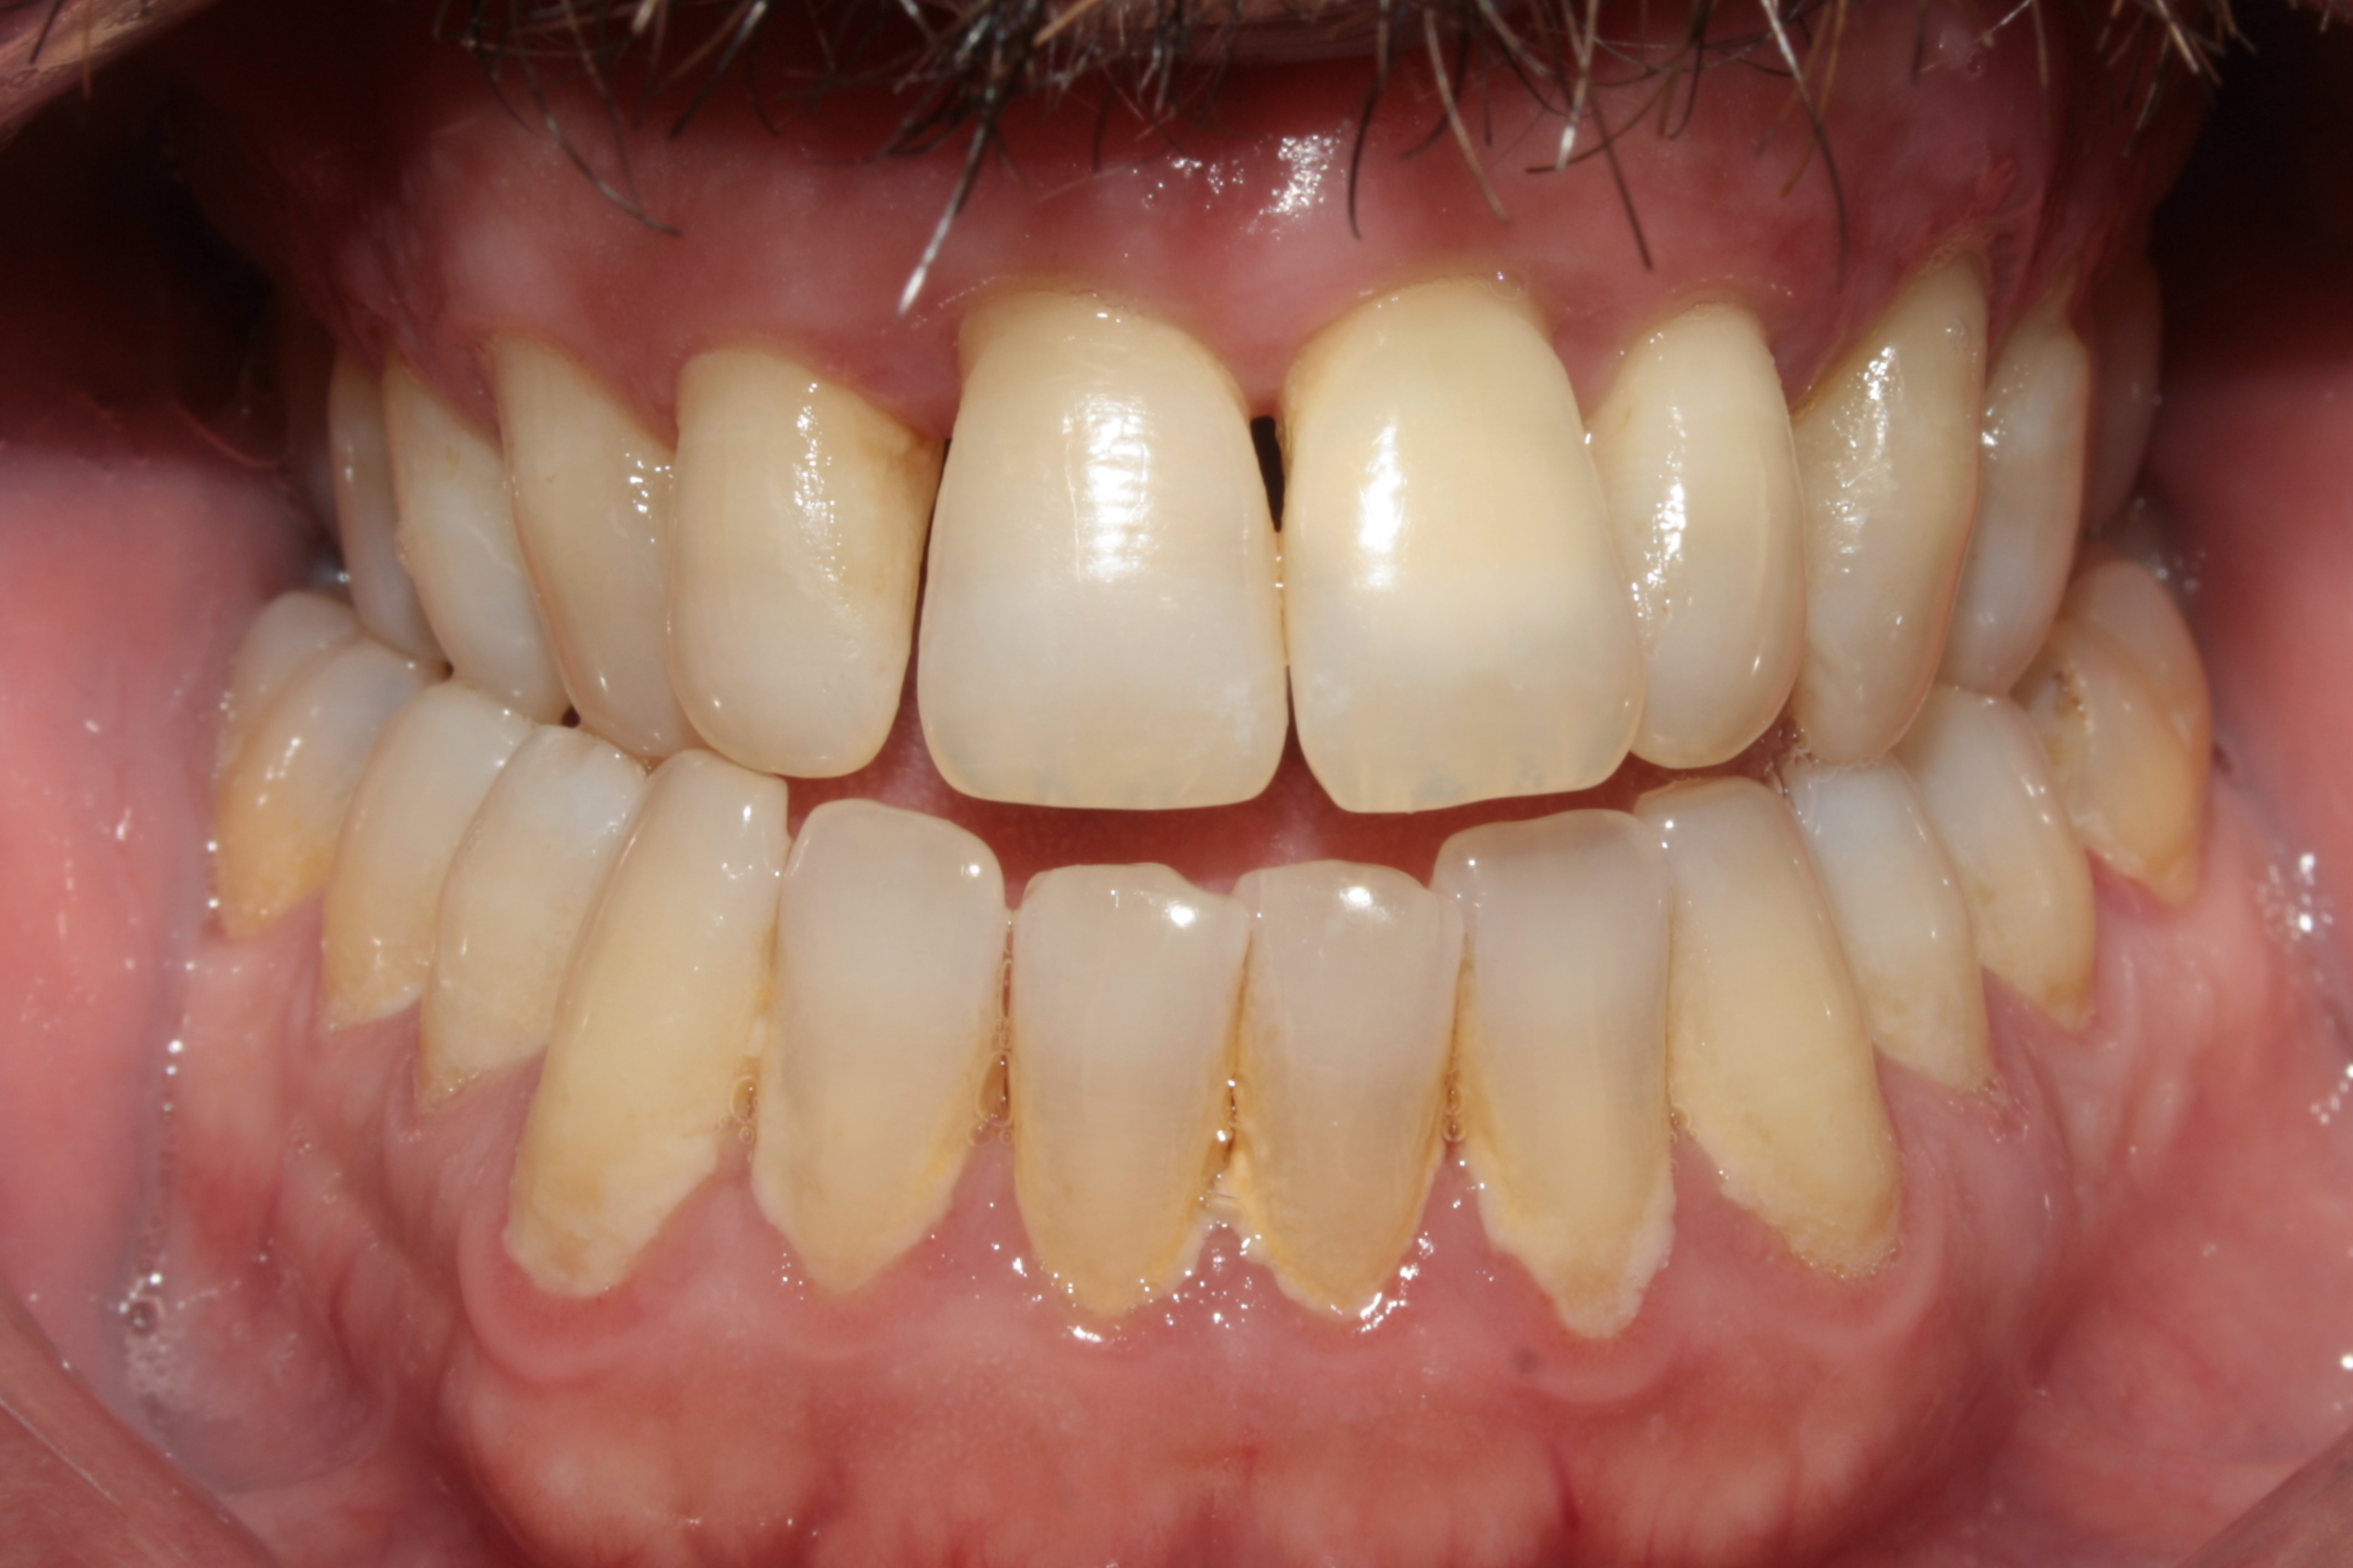LL1BC_mdecay: (1816, 782, 1994, 1095)
LL1M_mdecay: (2054, 661, 2203, 910)
LL2BC_mdecay: (1938, 730, 2101, 1027)
LL2M_mdecay: (2099, 574, 2220, 737)
LLCI_mdecay: (1244, 863, 1452, 1311)
LLC_mdecay: (1669, 789, 1900, 1281)
LLLI_mdecay: (1457, 828, 1672, 1326)
LR1BC_mdecay: (422, 735, 590, 1102)
LR1M_mdecay: (226, 654, 341, 926)
LR2BC_mdecay: (327, 689, 436, 1020)
LR2M_mdecay: (212, 597, 310, 730)
LRCI_mdecay: (1009, 865, 1237, 1300)
LRC_mdecay: (518, 786, 758, 1297)
LRLI_mdecay: (770, 803, 1002, 1281)
UL1BC_mdecay: (1979, 334, 2087, 702)
ULCI_healthy: (1293, 285, 1634, 805)
ULC_mdecay: (1804, 261, 1984, 761)
ULLI_mdecay: (1629, 294, 1798, 772)
UR1BC_mdecay: (378, 371, 504, 670)
UR2BC_mdecay: (332, 381, 399, 637)
URCI_healthy: (922, 299, 1282, 807)
URC_mdecay: (495, 350, 665, 735)
URLI_mdecay: (667, 359, 929, 777)
